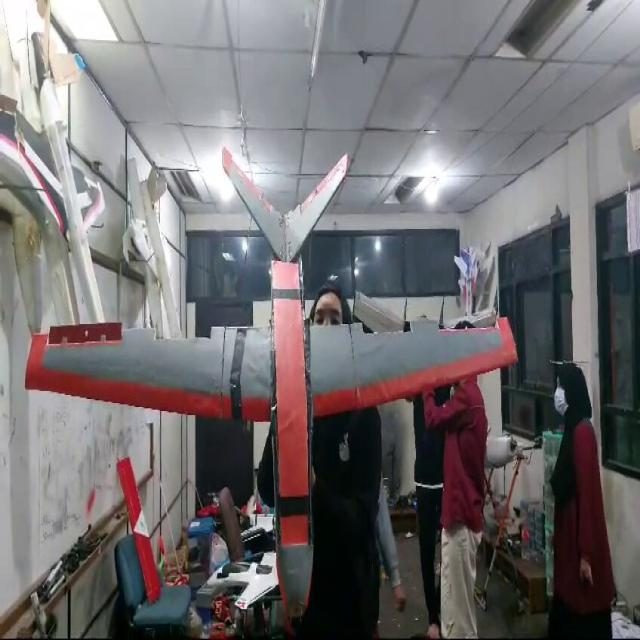plane: (24, 143, 519, 627)
